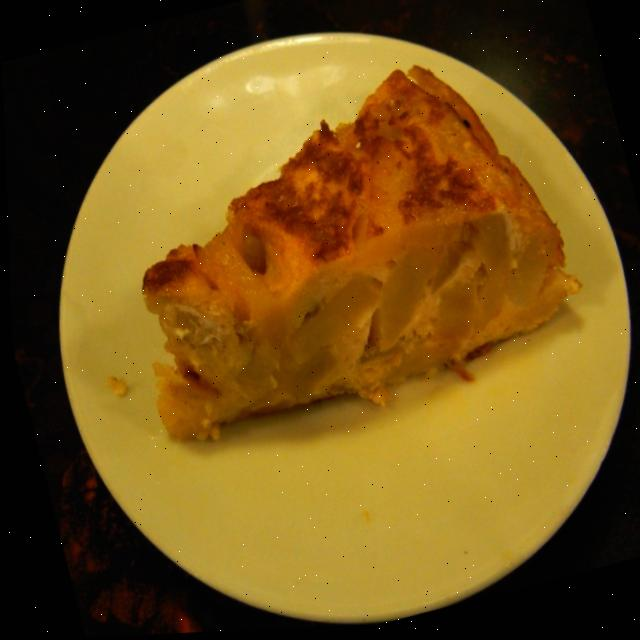鸡蛋料理: (57, 0, 640, 528)
